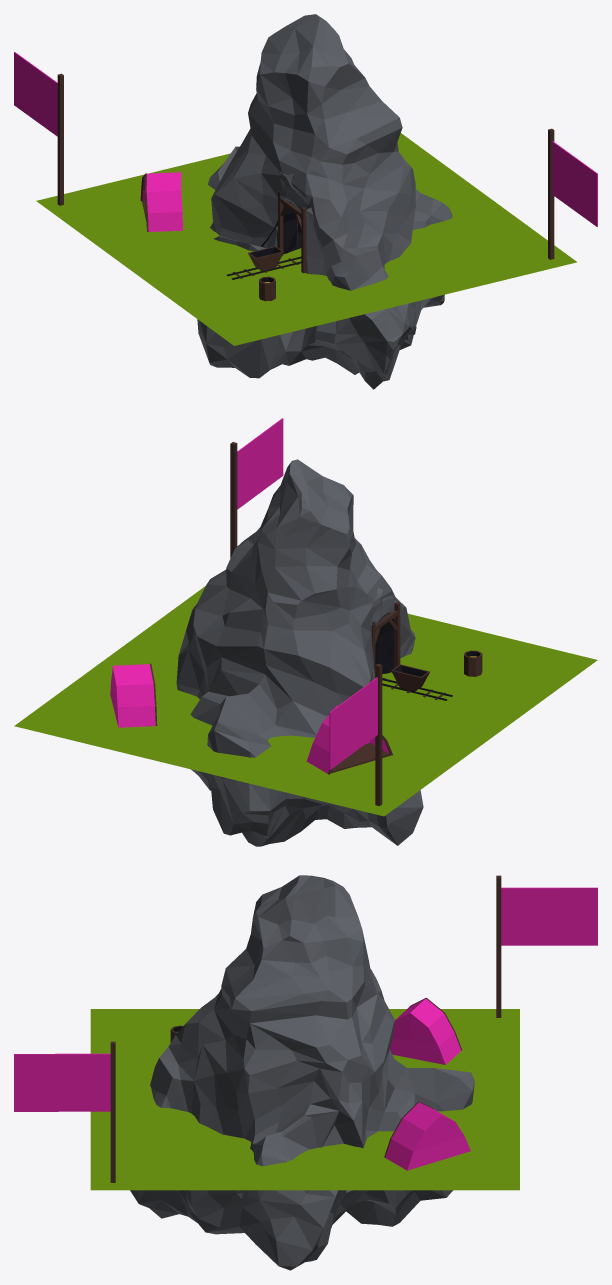
The model's file is UpdatedMine.fbx.
3 renders of one model, top to bottom at view 1: azimuth 30°, elevation 25°; view 2: azimuth 150°, elevation 25°; view 3: azimuth 270°, elevation 25°, orthographic. The views are drawn at different scales.
Visible parts, largest first — view 1: Moutain, Ground, Camp, Cube, Tunnel; view 2: Moutain, Ground, Camp, Cube, Tunnel; view 3: Moutain, Ground, Camp.
Part boxes in pixels (left/top/right/bottom): Moutain: left=197, top=14, right=452, bottom=389; Ground: left=36, top=133, right=576, bottom=345; Camp: left=14, top=52, right=597, bottom=301; Cube: left=226, top=246, right=301, bottom=279; Tunnel: left=278, top=190, right=306, bottom=273; Moutain: left=176, top=459, right=423, bottom=846; Ground: left=14, top=586, right=597, bottom=816; Camp: left=110, top=418, right=482, bottom=806; Cube: left=382, top=664, right=452, bottom=700; Tunnel: left=371, top=602, right=400, bottom=676; Moutain: left=130, top=875, right=474, bottom=1270; Ground: left=90, top=1009, right=519, bottom=1190; Camp: left=14, top=875, right=597, bottom=1182.
Bounding box in the file's own units: 2283 × 2098 × 3105.
